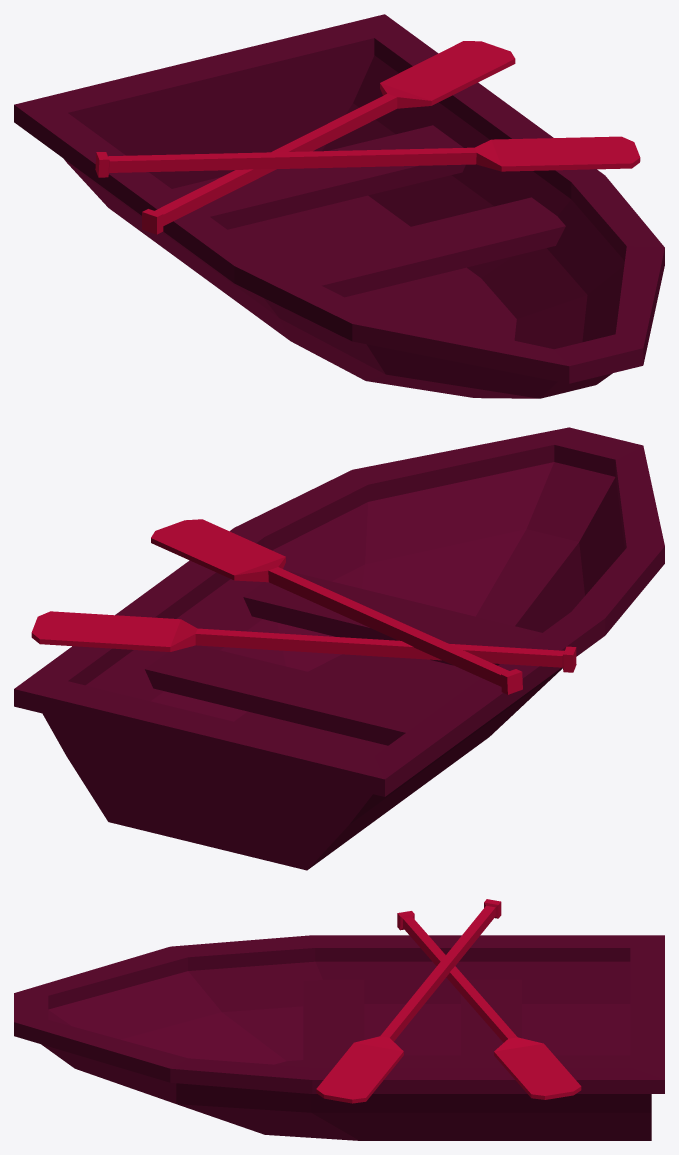
File: Rowboat_01.fbx
3 renders of one model, top to bottom at view 1: azimuth 30°, elevation 25°; view 2: azimuth 150°, elevation 25°; view 3: azimuth 270°, elevation 25°, orthographic. The views are drawn at different scales.
Visible parts, largest first — view 1: Rowboat_01; view 2: Rowboat_01; view 3: Rowboat_01.
Boxes of the visible parts, x1,y1,x2,y2 form: Rowboat_01: (14,14,664,398); Rowboat_01: (14,427,664,870); Rowboat_01: (14,899,664,1140).
Size of the model in its own units: 12.39 by 3.92 by 19.18.
